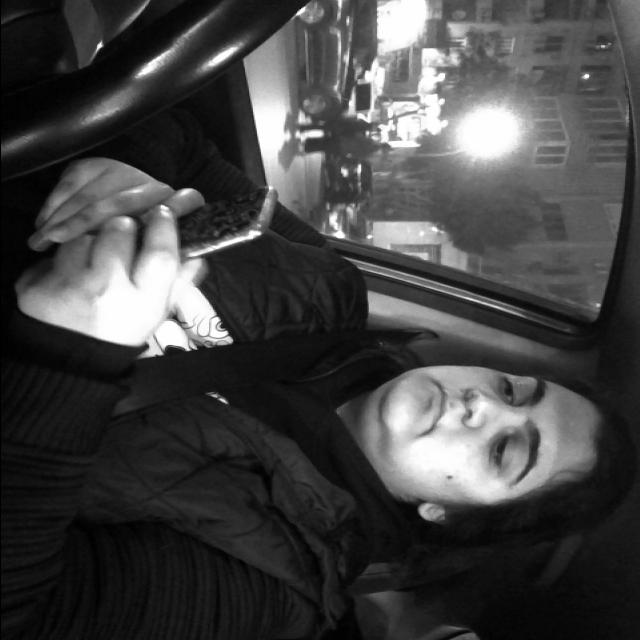mobile use: (104, 178, 288, 276)
